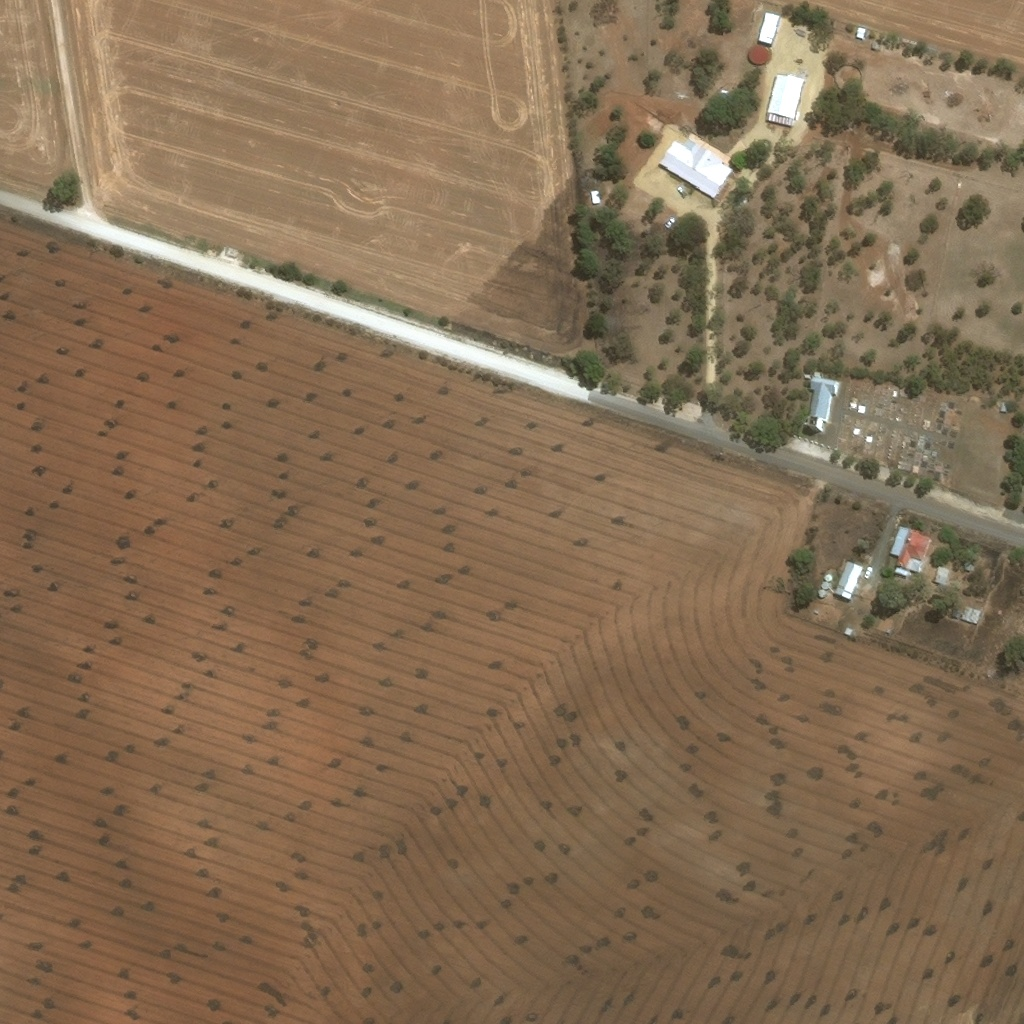0 no-damage: (657, 135, 733, 198), (766, 69, 805, 123), (807, 369, 841, 429), (890, 522, 933, 565), (835, 557, 865, 596), (758, 9, 780, 42), (748, 42, 768, 62), (960, 603, 982, 621), (934, 563, 952, 584), (892, 562, 909, 579), (855, 23, 867, 38), (962, 559, 973, 569), (843, 623, 854, 633), (999, 399, 1008, 410), (950, 606, 959, 614), (818, 586, 826, 595), (821, 578, 830, 586), (825, 571, 833, 578)
4 un-classified: (633, 114, 648, 127), (376, 962, 390, 975), (789, 39, 798, 52)
